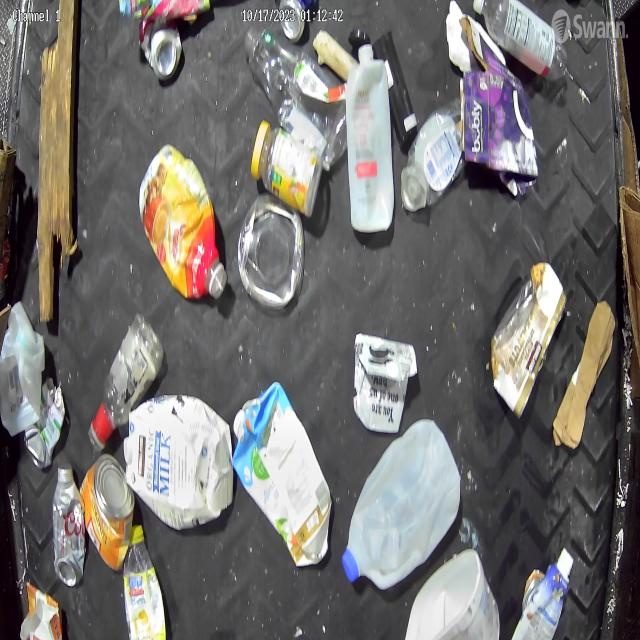milk-jug: (344, 420, 464, 599)
